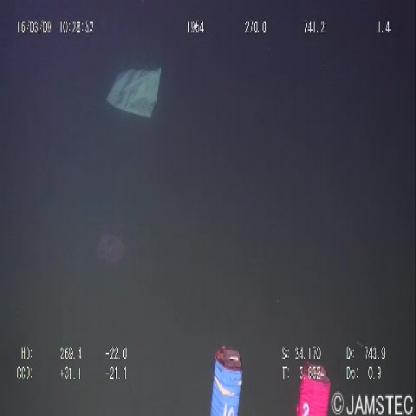Rác: (106, 60, 163, 120)
